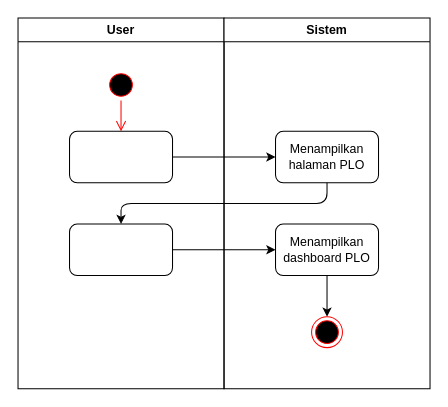
Image size: 448x407. Some labels were removed from this diagram. Each missing label, with the centre of its shape:
"Membuka halaman PLO" goes at [120,156].
"Pilih tombol dashboard PLO" goes at [120,249].
